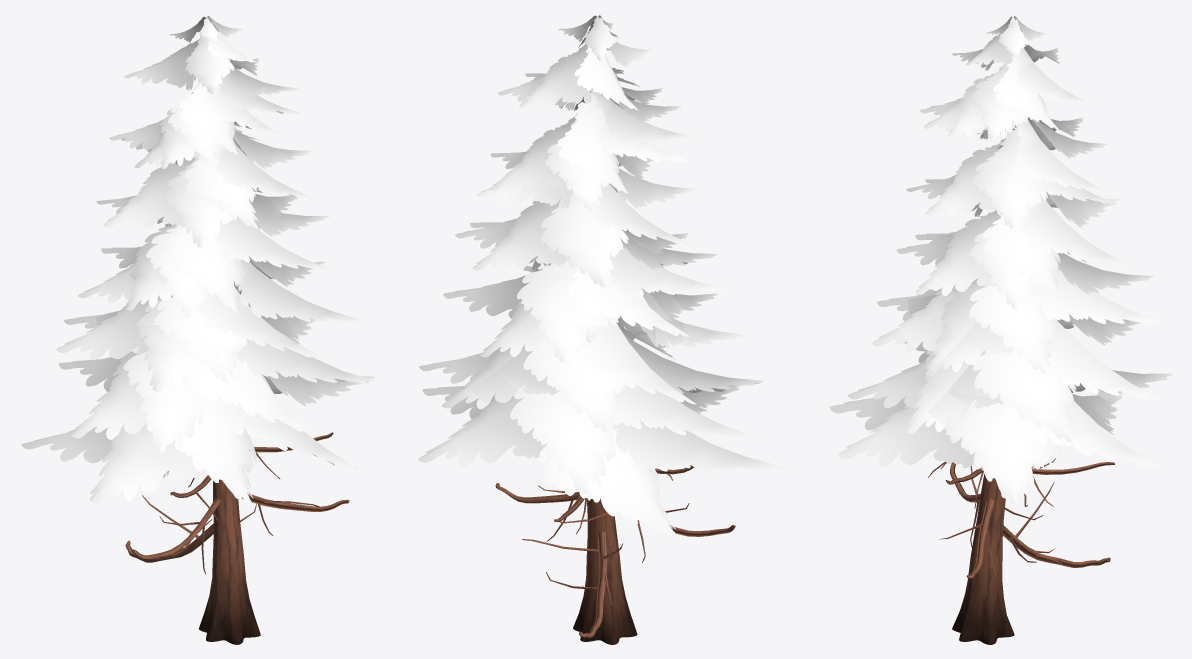
Rendered from Pine_4.gltf.
3 views of the same model, side by side, from view 1: azimuth 30°, elevation 25°; view 2: azimuth 150°, elevation 25°; view 3: azimuth 270°, elevation 25° (orthographic). The views are drawn at different scales.
Visible parts, largest first — view 1: Pine_4; view 2: Pine_4; view 3: Pine_4.
Part boxes in pixels (x1,y1,x2,y2): Pine_4: [21, 16, 377, 644]; Pine_4: [418, 15, 787, 644]; Pine_4: [829, 16, 1172, 644].
Bounding box in the file's own units: 5.8 × 10.24 × 5.37.
2 materials, 2 textured.
